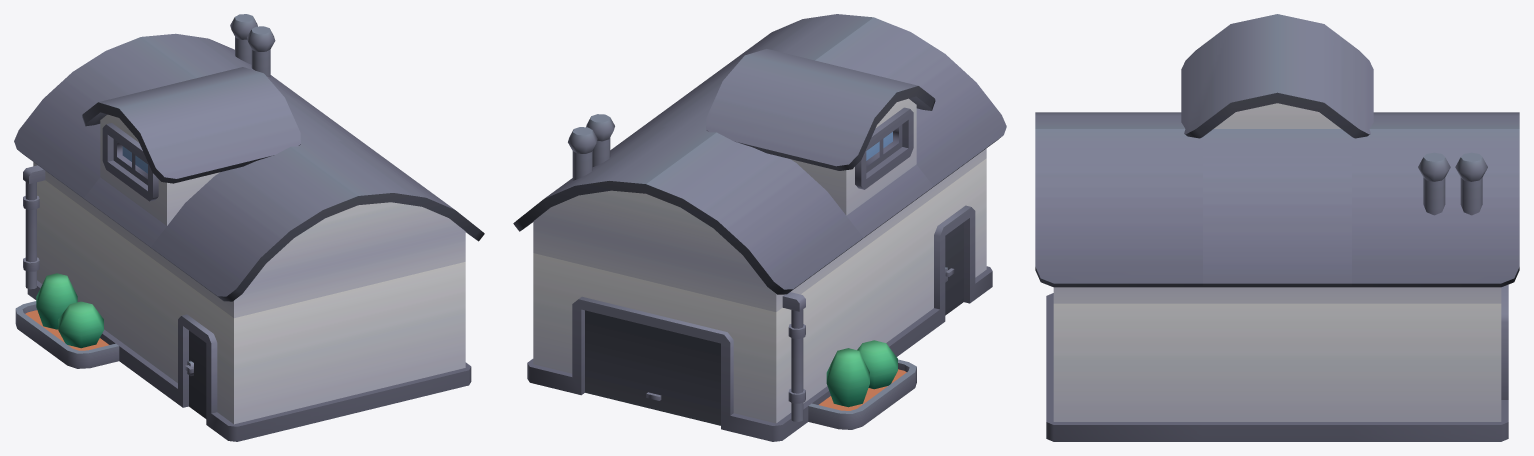
Rendered from k-city-kit-industrial-building-j.glb.
3 views of the same model, side by side, from view 1: azimuth 30°, elevation 25°; view 2: azimuth 150°, elevation 25°; view 3: azimuth 270°, elevation 25° (orthographic). The views are drawn at different scales.
Parts seen in each view (by area): view 1: building-j; view 2: building-j; view 3: building-j.
Boxes of the visible parts, x1,y1,x2,y2 form: building-j: (14,14,484,441); building-j: (513,14,1006,441); building-j: (1035,14,1519,441).
Size of the model in its own units: 1.03 by 0.8612 by 1.3.
1 material, 1 textured.
